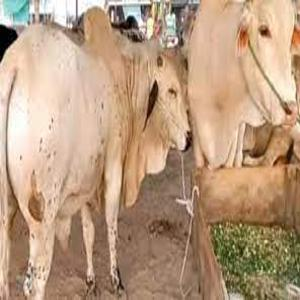lumpy skin diesease: (0, 5, 191, 299), (184, 0, 299, 170)
